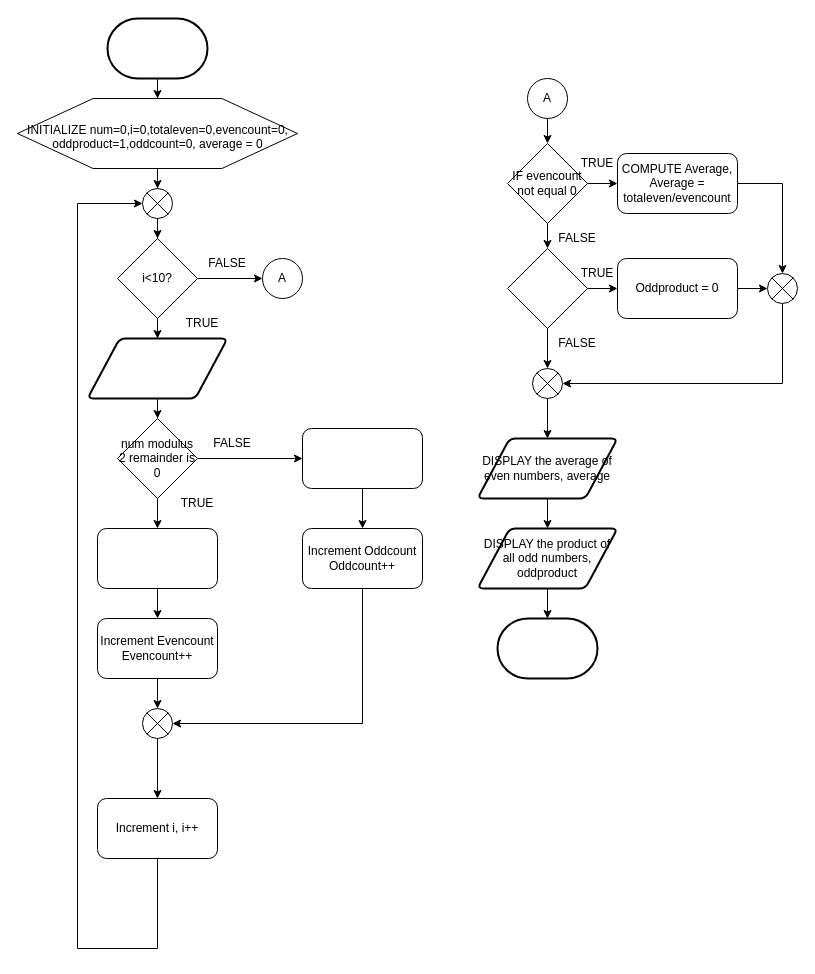
Image size: 815x974. Some labels were removed from this diagram. The shapes that lost their labels are listed below. From the top down, each one's centre as x and y in pixels, then its label:
point 157,48: START
point 547,288: IF oddcount equal to 0
point 157,368: PROMPTS and ASKS the user a number, num
point 362,458: COMPUTE Oddproduct Oddproduct*=num
point 157,558: COMPUTE Totaleven Totaleven+=num
point 547,648: END
